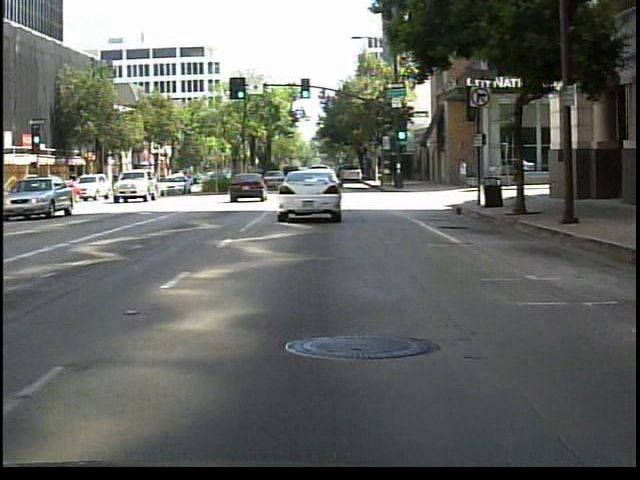person: (454, 155, 470, 194)
